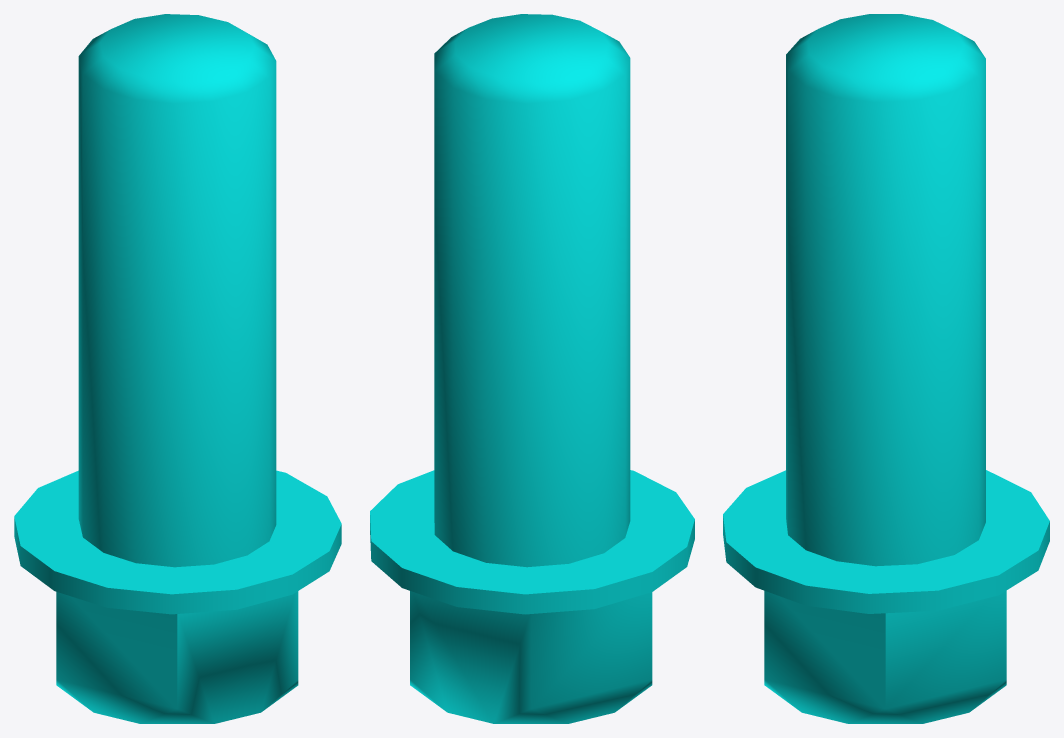
3 renders of one model, left to right at view 1: azimuth 30°, elevation 25°; view 2: azimuth 150°, elevation 25°; view 3: azimuth 270°, elevation 25°, orthographic.
Parts seen in each view (by area): view 1: tr014_05; view 2: tr014_05; view 3: tr014_05.
Part boxes in pixels (x1,y1,x2,y2): tr014_05: (14, 14, 341, 723); tr014_05: (370, 14, 694, 723); tr014_05: (723, 14, 1049, 723).
Size of the model in its own units: 3.42 by 7.28 by 3.44.
